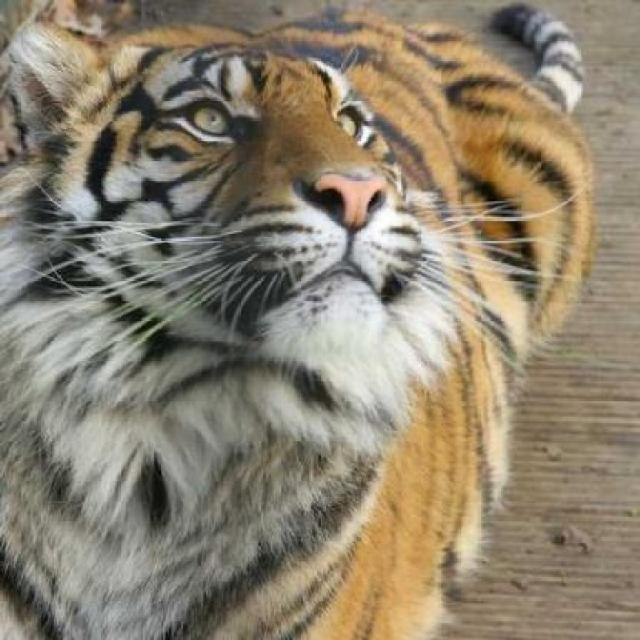Tiger: (5, 0, 629, 638)
